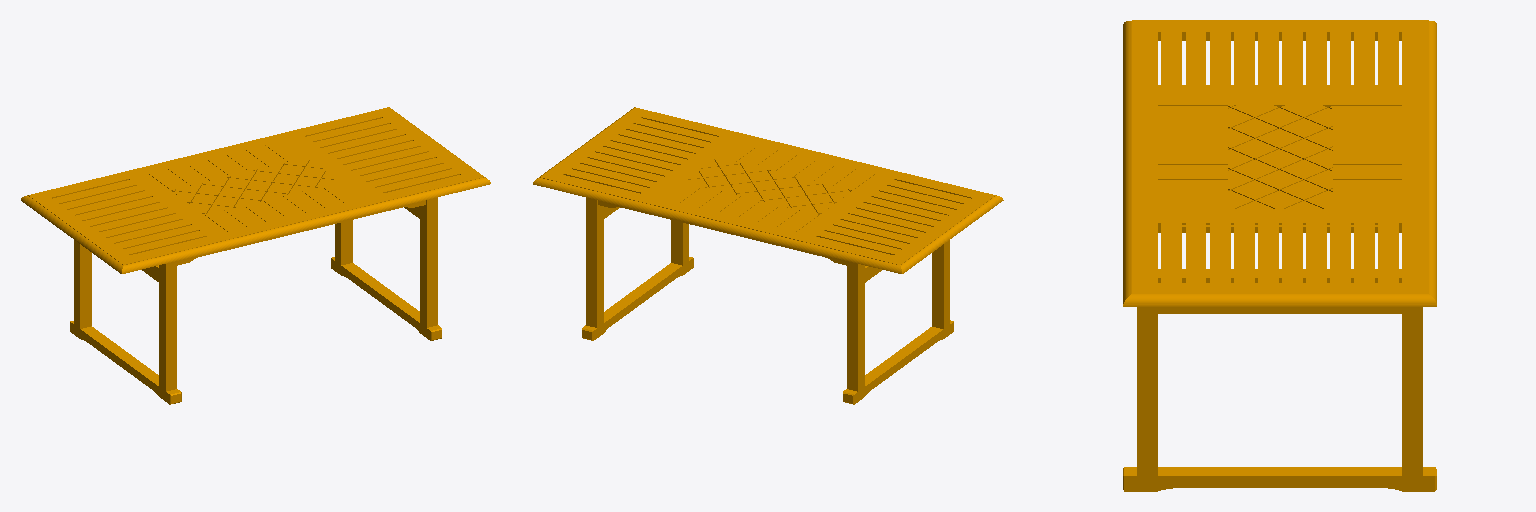
URDF robot description (9954b8f6fc40f0ab1cf96a5dc33e37f1):
<?xml version="1.0" ?>
<robot name="9954b8f6fc40f0ab1cf96a5dc33e37f1">

  <link name="base">

    <inertial>
      <mass value="1"/>
      <inertia ixx="1" ixy="0" ixz="0" iyy="1" iyz="0" izz="1"/>
    </inertial>

    <visual>
      <origin rpy="1.57079 0 0" xyz="0 0 0.28"/>
      <geometry>
        <mesh filename ="models/model_normalized.obj" scale="1 1 1"/>
      </geometry>
    </visual>

    <collision>
      <origin rpy="1.57079 0 0" xyz="0 0 0.28"/>
      <geometry>
        <mesh filename ="models/model_normalized.obj" scale="1 1 1"/>
      </geometry>
    </collision>

  </link>
  
</robot>

--- Facts derived from the render (not from the file) ---
3 views of the same robot in one strip: view 1: azimuth 30°, elevation 25°; view 2: azimuth 150°, elevation 25°; view 3: azimuth 270°, elevation 25° (orthographic).
Model 9954b8f6fc40f0ab1cf96a5dc33e37f1 with 1 links and 0 joints (none), rooted at base, posed every joint at zero.
Visible links, largest first — view 1: base; view 2: base; view 3: base.
Link boxes in pixels (x1,y1,x2,y2): base: [21, 107, 490, 404]; base: [533, 107, 1003, 404]; base: [1123, 20, 1436, 491].
Size in the robot's own frame: 0.8535 by 0.4049 by 0.3279 metres.
Meshes: 1 distinct files referenced, 1 mesh visuals loaded (1 OBJ).